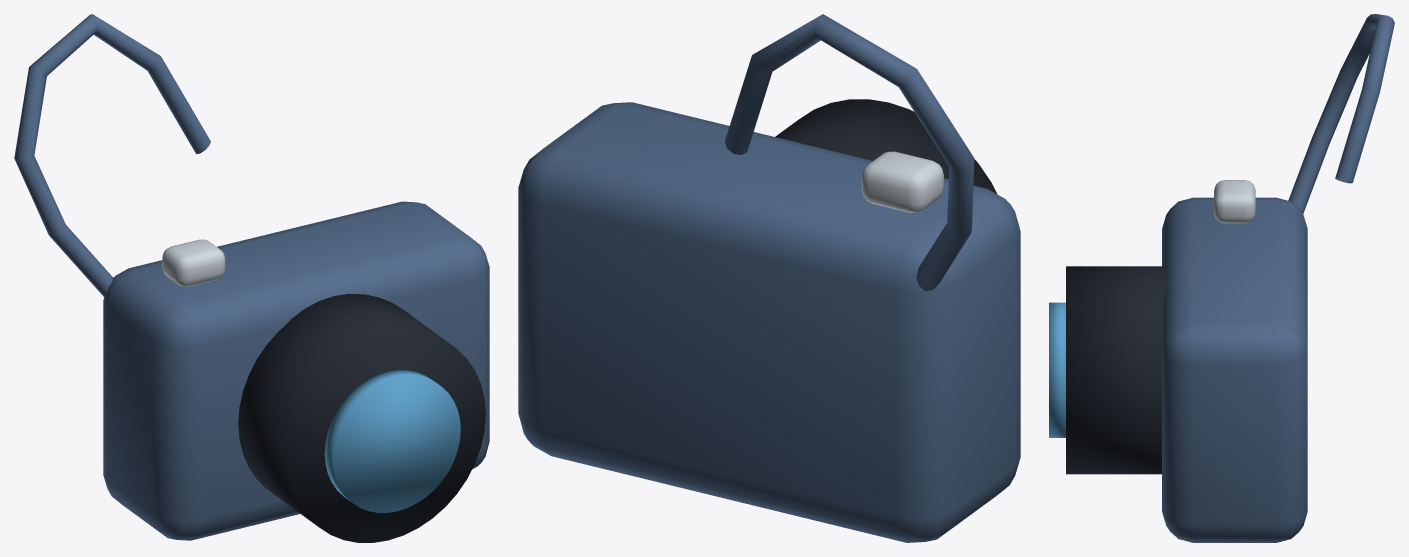
The model's file is camera.glb.
The picture shows the model from 3 angles, left to right: view 1: azimuth 30°, elevation 25°; view 2: azimuth 150°, elevation 25°; view 3: azimuth 270°, elevation 25°; orthographic projection. The views are drawn at different scales.
Parts seen in each view (by area): view 1: Camera_Body, Camera_Lens_Housing, Camera_Lens_Glass, Camera_Wrist_Strap, Camera_Shutter; view 2: Camera_Body, Camera_Wrist_Strap, Camera_Lens_Housing, Camera_Shutter; view 3: Camera_Body, Camera_Lens_Housing, Camera_Wrist_Strap, Camera_Lens_Glass, Camera_Shutter.
Part boxes in pixels (x1,y1,x2,y2): Camera_Body: (103,201,489,540); Camera_Lens_Housing: (238,293,485,542); Camera_Lens_Glass: (324,370,460,512); Camera_Wrist_Strap: (14,14,210,296); Camera_Shutter: (162,239,225,286); Camera_Body: (518,102,1020,542); Camera_Wrist_Strap: (724,14,974,290); Camera_Lens_Housing: (775,99,996,193); Camera_Shutter: (861,151,943,213); Camera_Body: (1162,197,1307,542); Camera_Lens_Housing: (1066,266,1166,474); Camera_Wrist_Strap: (1288,14,1394,213); Camera_Lens_Glass: (1049,302,1065,437); Camera_Shutter: (1214,180,1255,223).
Size of the model in its own units: 0.7878 by 0.8673 by 0.6655.
